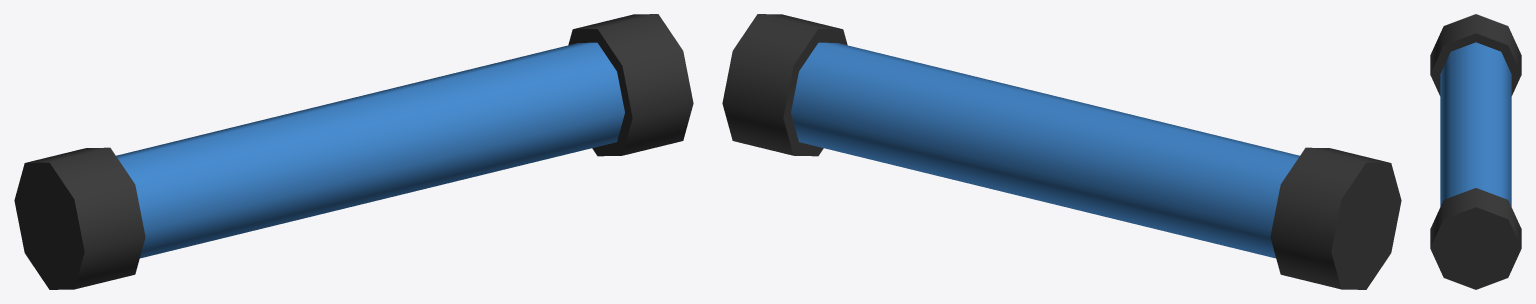
Rendered from Cable1.fbx.
The picture shows the model from 3 angles, left to right: view 1: azimuth 30°, elevation 25°; view 2: azimuth 150°, elevation 25°; view 3: azimuth 270°, elevation 25°; orthographic projection. The views are drawn at different scales.
Visible parts, largest first — view 1: TwoSides; view 2: TwoSides; view 3: TwoSides.
Boxes of the visible parts, x1,y1,x2,y2 form: TwoSides: (14, 14, 693, 289); TwoSides: (722, 14, 1401, 289); TwoSides: (1430, 14, 1521, 289).
Size of the model in its own units: 100 by 20 by 20.
